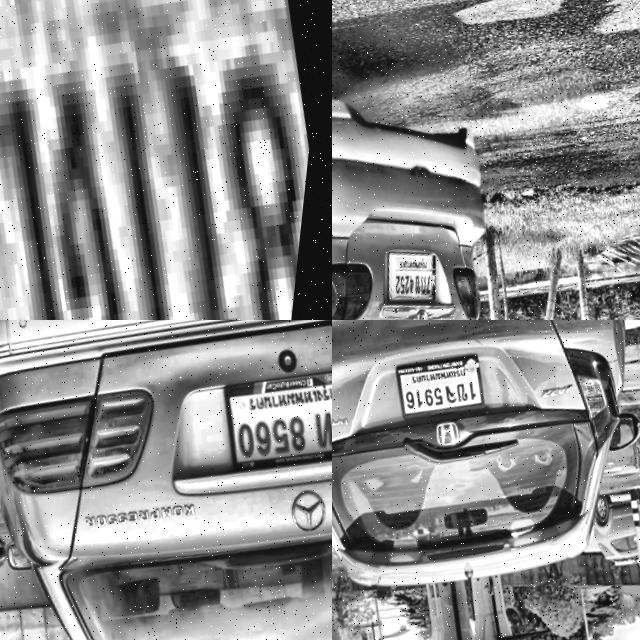license-plate: (0, 0, 332, 320), (219, 341, 332, 475), (395, 338, 499, 426), (385, 232, 456, 313)
